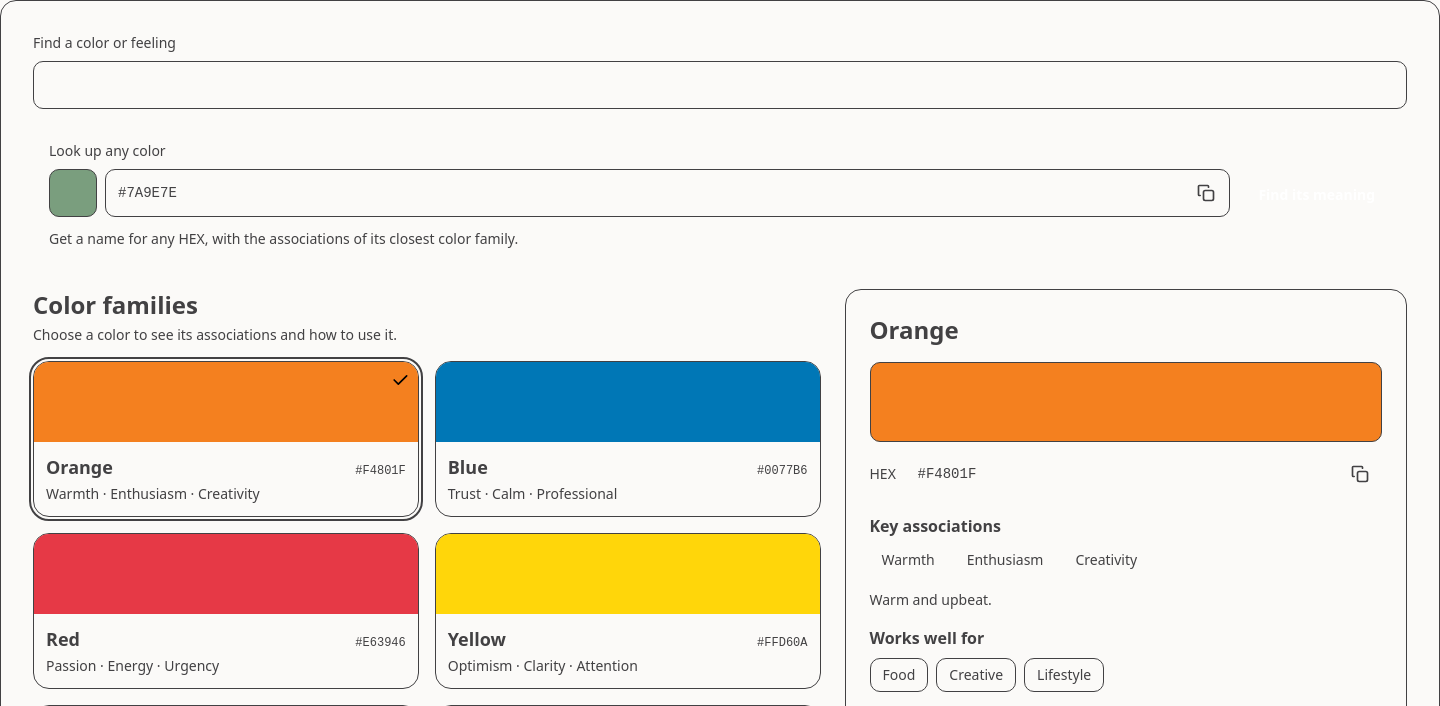
Test: ColorMeaningsView › searches names and associations, with a separate empty result
expect the button "Orange #F4801F Warmth · Enthusiasm · Creativity" is shown: met, box [33,361,419,517]
Type "trust" into the search field labelled "Find a color or feeling" at (720, 85), box [33,61,1407,109]
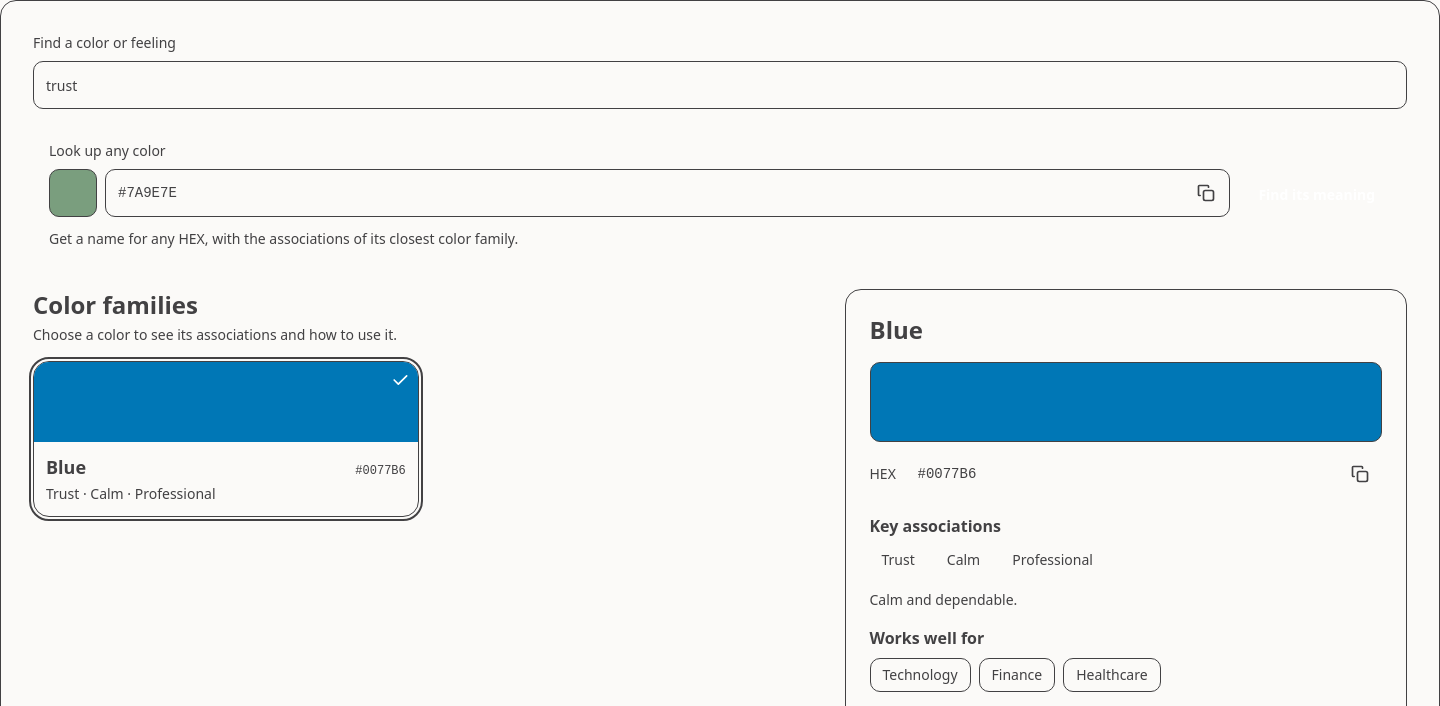
expect the button "Blue #0077B6 Trust · Calm · Professional" is shown: met, box [33,361,419,517]
expect the button "Orange" is gone: met
Replace the text in the search field labelled "Find a color or feeling" with "zzz" at (720, 85), box [33,61,1407,109]
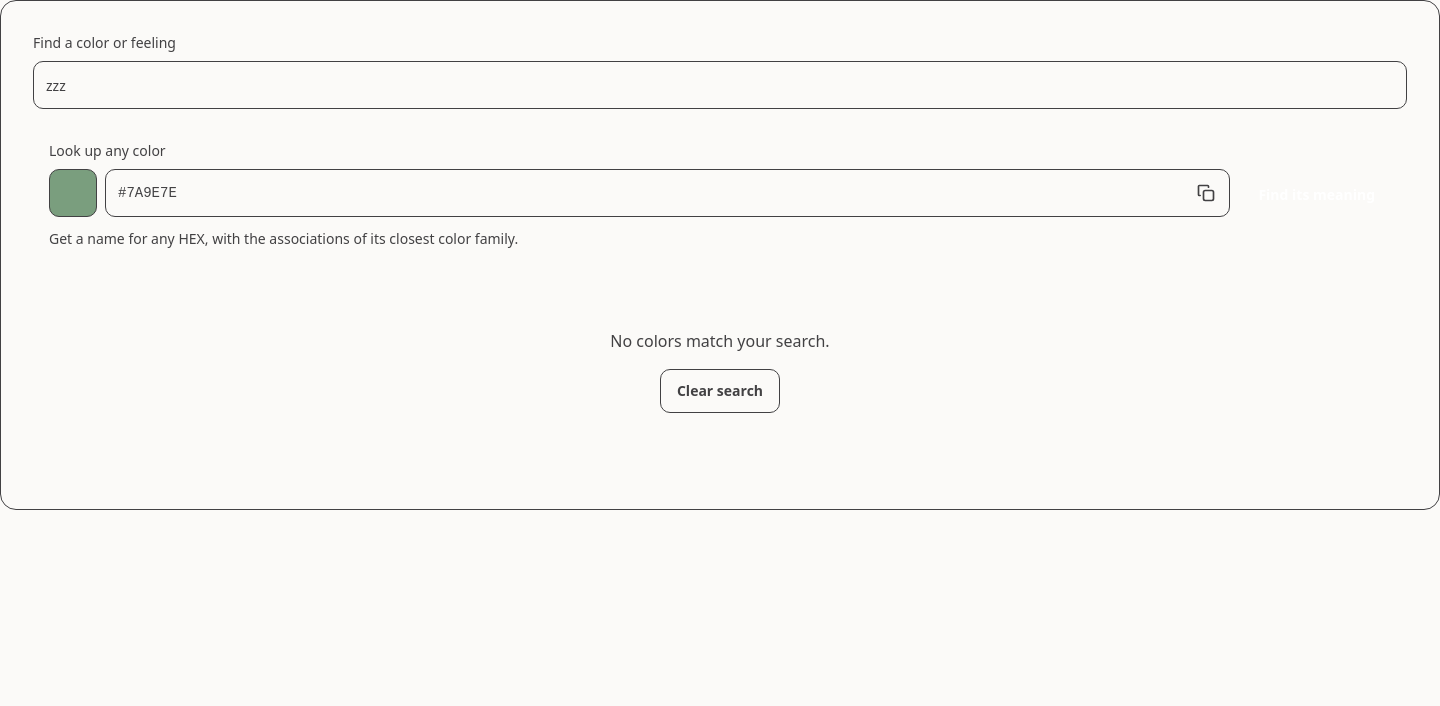
expect the text "No colors match your search." is shown: met, box [610,330,830,352]
